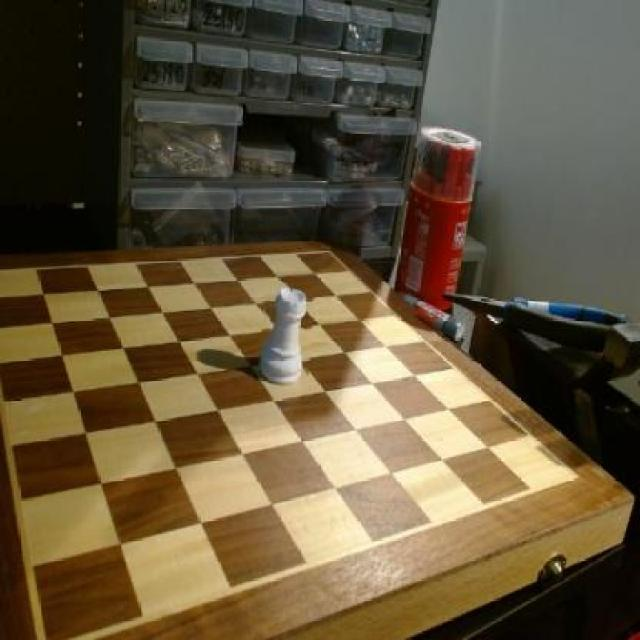white-queen: (260, 282, 313, 388)
